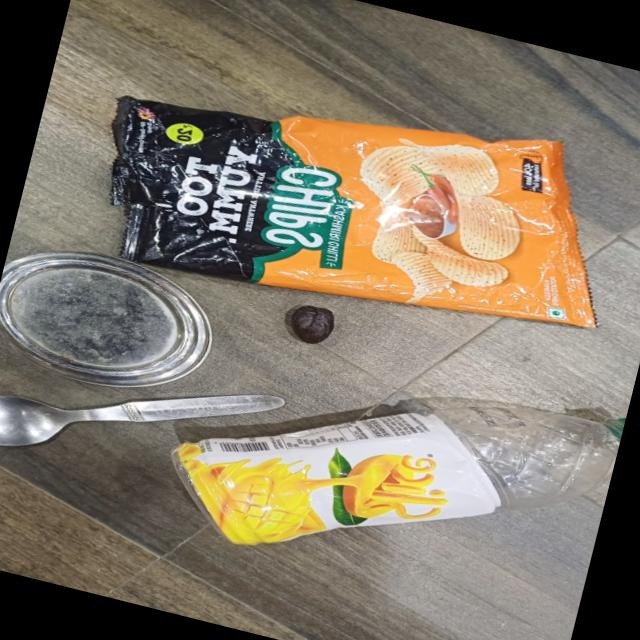Date-Bio: (278, 297, 336, 349)
Plastic-NonBio: (64, 29, 640, 375), (158, 314, 626, 628)
Steel-NonBio: (0, 325, 283, 514), (0, 237, 228, 410)
